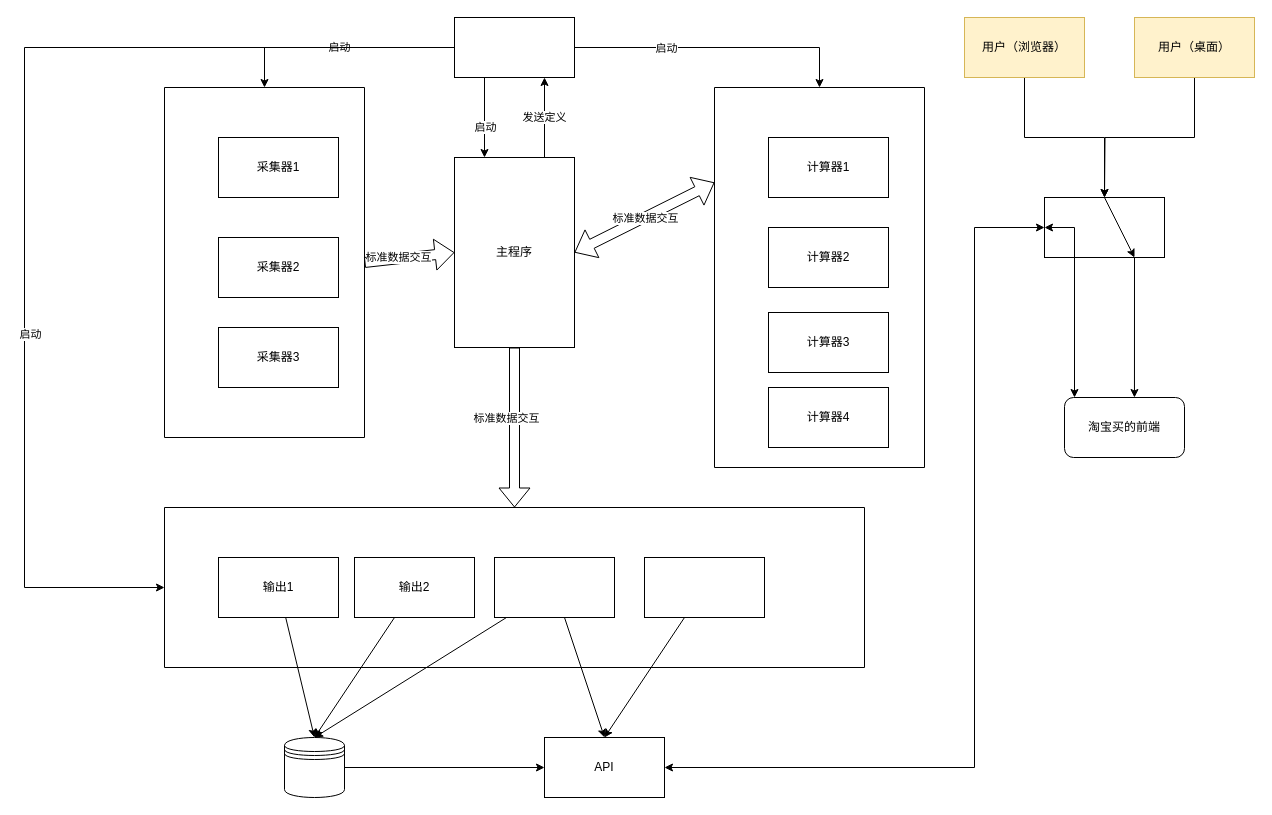
The diagram is 1272 pixels wide and 815 high, and some of its shapes have lost their labels. Each missing label, with the centre of its shape:
nginx: point 1104,227
启动和监控: point 514,47
输出3: point 554,587
输出4: point 704,587
